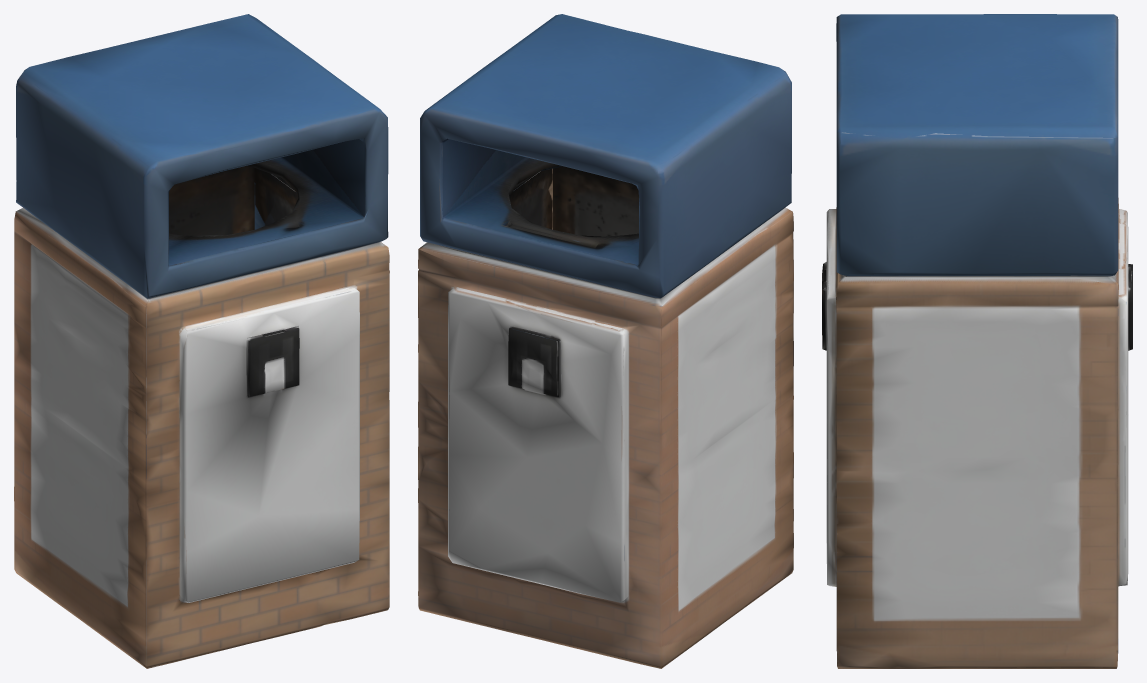
The model's file is Meshy_AI_Trash_Bin_Geometry_0107222616_texture.fbx.
3 renders of one model, left to right at view 1: azimuth 30°, elevation 25°; view 2: azimuth 150°, elevation 25°; view 3: azimuth 270°, elevation 25°, orthographic. The views are drawn at different scales.
Parts seen in each view (by area): view 1: Mesh_0; view 2: Mesh_0; view 3: Mesh_0.
Part boxes in pixels (box(x1,y1,x2,y2)): Mesh_0: box(14, 14, 389, 668); Mesh_0: box(418, 14, 793, 668); Mesh_0: box(822, 14, 1132, 668).
Bounding box in the file's own units: 96.77 × 191 × 101.
1 material, 1 textured.
